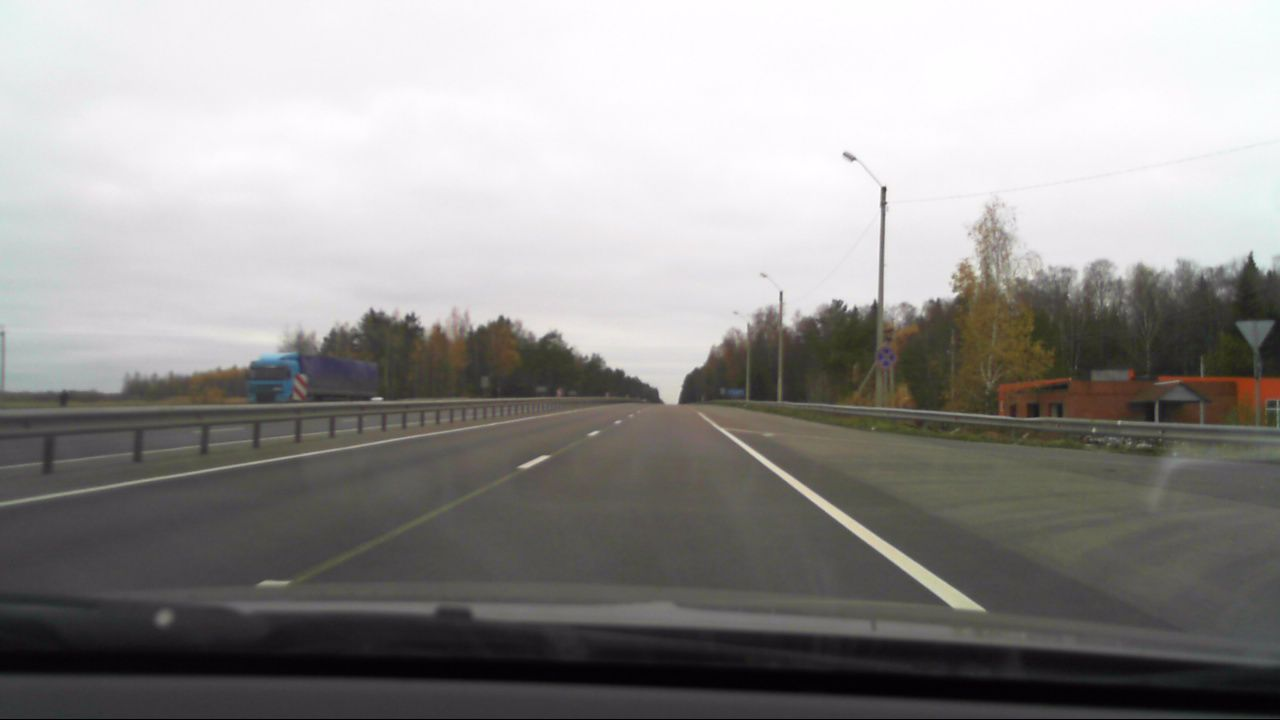No Parking: (870, 344, 899, 367)
